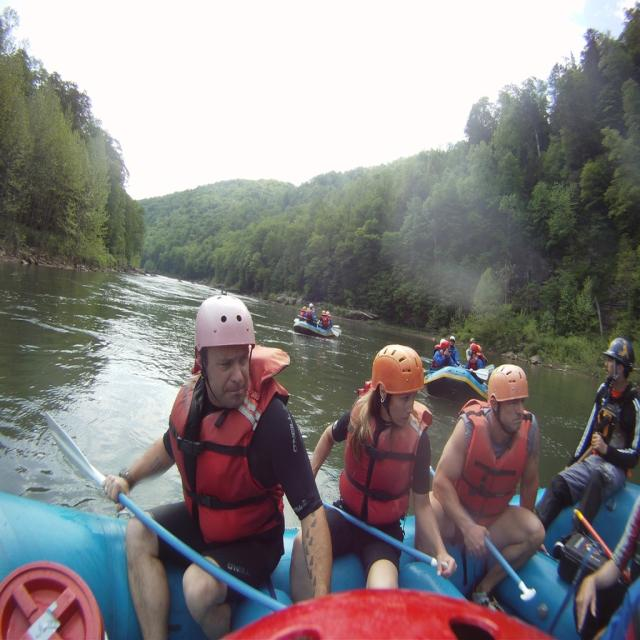Boat: (0, 472, 640, 640), (423, 364, 492, 404), (289, 302, 347, 348)
